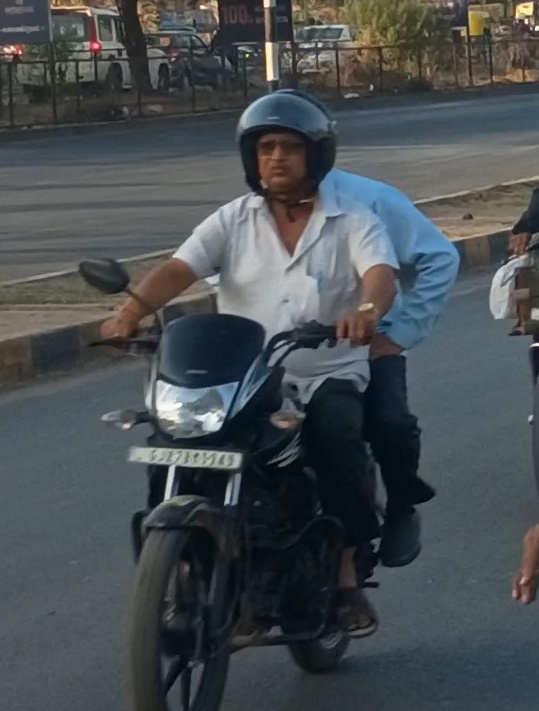BikeWithRider: (56, 74, 480, 711)
Helmet: (223, 80, 344, 211)
